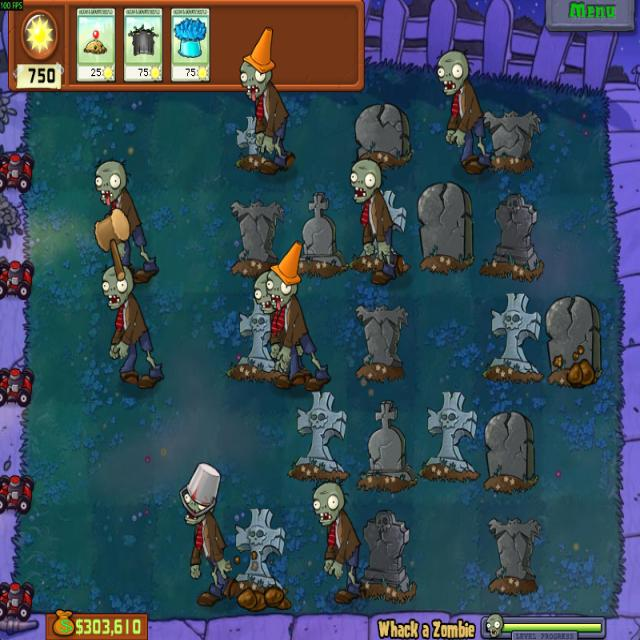buckethead: (177, 459, 220, 525)
conehead: (237, 28, 280, 102), (266, 239, 310, 310)
grave: (418, 390, 481, 482), (287, 391, 349, 482), (417, 183, 477, 274), (228, 507, 287, 598), (356, 510, 415, 600), (484, 294, 544, 382), (358, 398, 416, 489), (482, 195, 544, 280), (544, 296, 600, 384), (354, 300, 412, 382), (485, 512, 541, 596), (484, 408, 536, 494), (482, 104, 542, 173), (298, 192, 347, 272), (353, 100, 412, 166), (230, 201, 279, 276), (234, 297, 278, 380), (235, 118, 270, 168), (379, 188, 408, 243)
gravebuster: (124, 9, 162, 81)
zombie: (90, 157, 129, 205), (309, 479, 347, 528), (345, 157, 382, 205), (432, 54, 476, 94), (100, 265, 134, 312), (247, 270, 271, 316)
